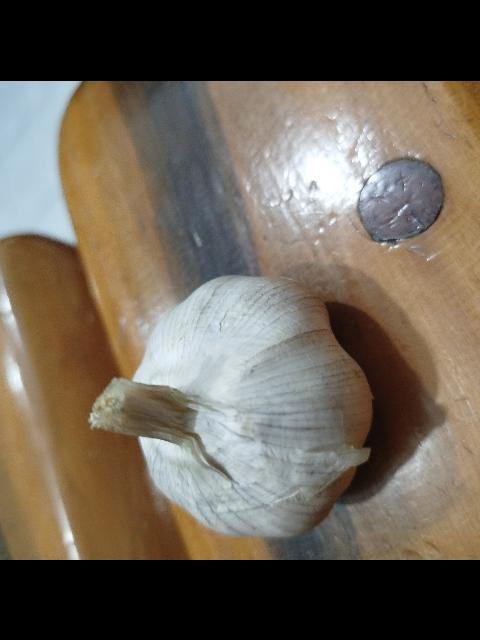garlic: (88, 274, 374, 538)
